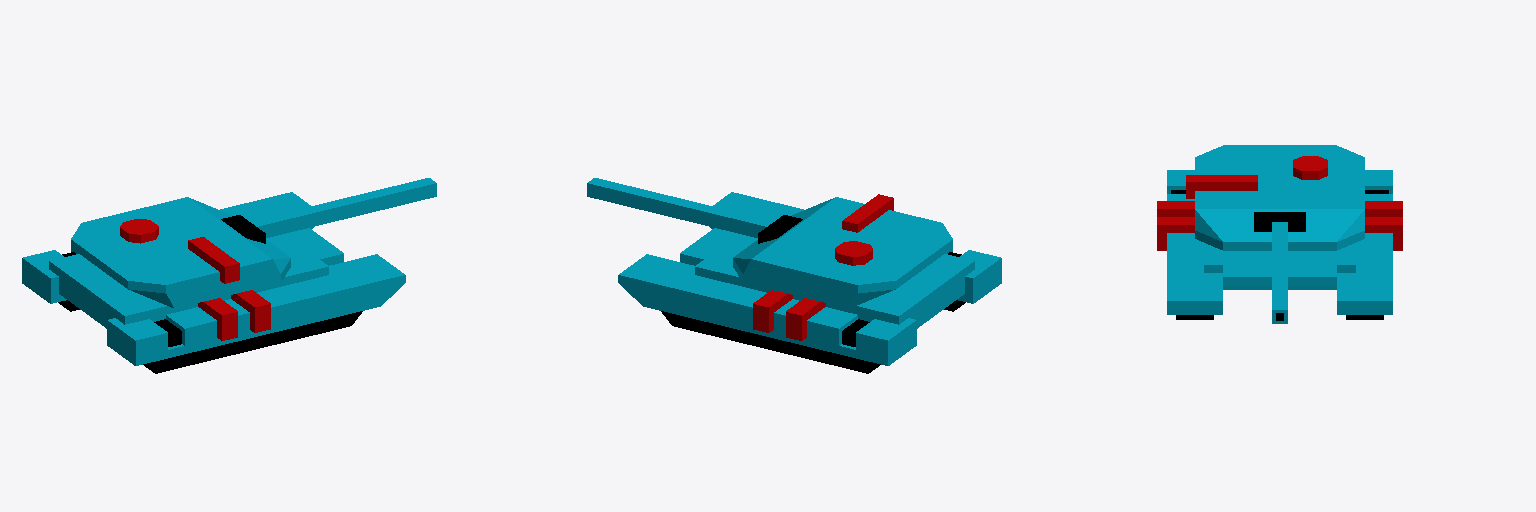
File: Ver17.obj
3 views of the same model, side by side, from view 1: azimuth 30°, elevation 25°; view 2: azimuth 150°, elevation 25°; view 3: azimuth 270°, elevation 25° (orthographic).
Parts seen in each view (by area): view 1: Hull_Cube.006, Turret_Cube.004, Barrel_Cube.009; view 2: Hull_Cube.006, Turret_Cube.004, Barrel_Cube.009; view 3: Hull_Cube.006, Turret_Cube.004, Barrel_Cube.009.
Boxes of the visible parts, <box> form: Hull_Cube.006: <box>22,192,405,373</box>; Turret_Cube.004: <box>71,197,290,308</box>; Barrel_Cube.009: <box>221,178,436,243</box>; Hull_Cube.006: <box>618,192,1001,373</box>; Turret_Cube.004: <box>733,194,952,308</box>; Barrel_Cube.009: <box>587,178,802,243</box>; Hull_Cube.006: <box>1157,170,1402,319</box>; Turret_Cube.004: <box>1186,145,1364,250</box>; Barrel_Cube.009: <box>1254,212,1305,323</box>.
Bounding box in the file's own units: 2.17 × 0.5 × 1.3.